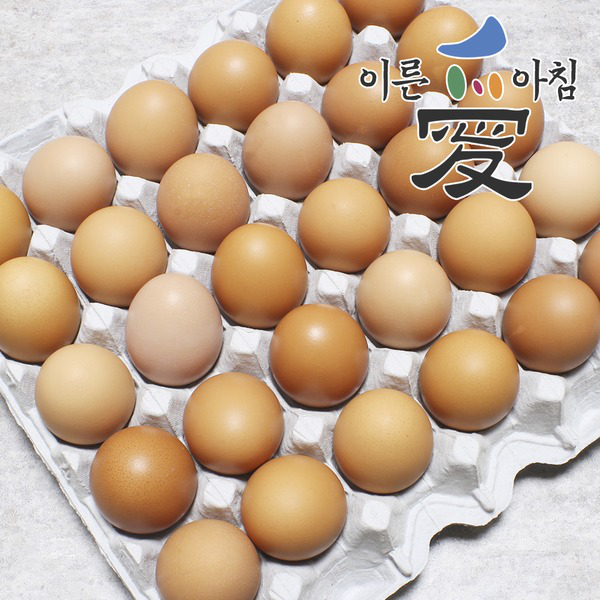egg: (1, 1, 600, 593)
